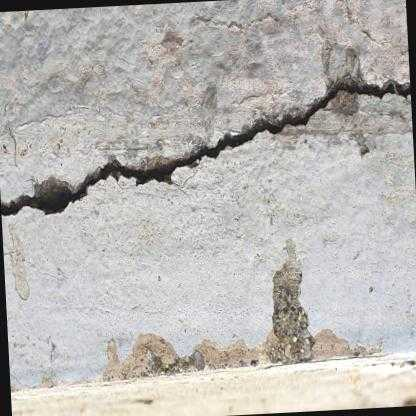crack: (0, 76, 410, 215)
